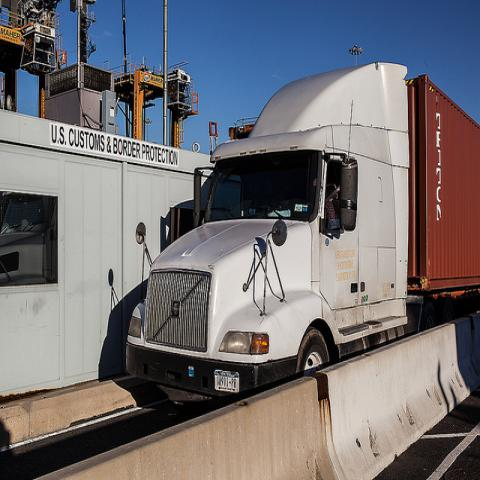truck: (124, 63, 480, 407)
